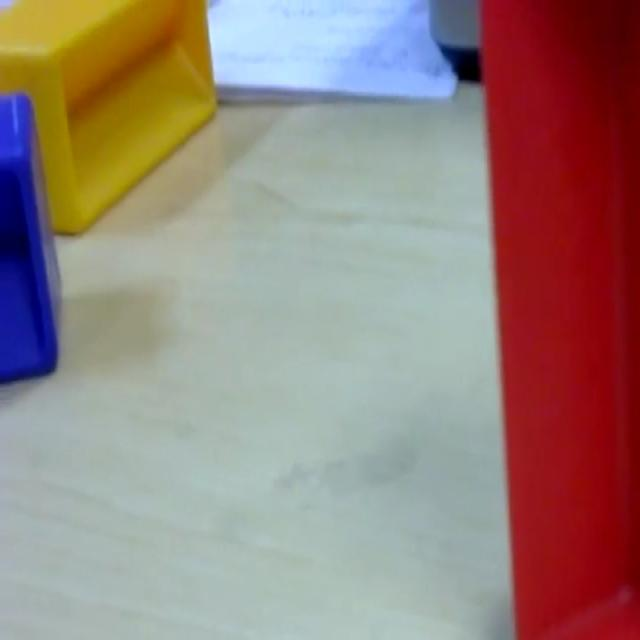blue_block: (0, 89, 62, 383)
red_block: (478, 0, 638, 636)
yellow_block: (1, 0, 218, 235)
